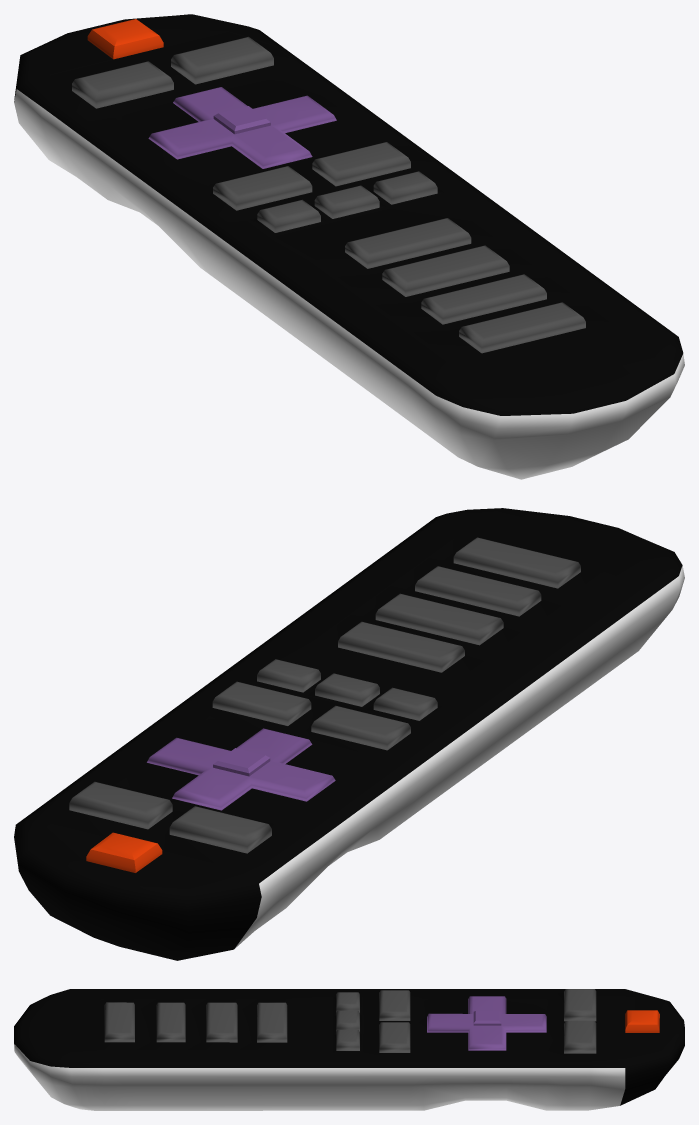
Rendered from TV_Remote.fbx.
The picture shows the model from 3 angles, top to bottom: view 1: azimuth 30°, elevation 25°; view 2: azimuth 150°, elevation 25°; view 3: azimuth 270°, elevation 25°; orthographic projection. The views are drawn at different scales.
Parts seen in each view (by area): view 1: pCube1; view 2: pCube1; view 3: pCube1.
Boxes of the visible parts, x1=… form: pCube1: x1=14, y1=14, x2=684, y2=479; pCube1: x1=14, y1=508, x2=684, y2=960; pCube1: x1=14, y1=989, x2=684, y2=1110.
Size of the model in its own units: 2.24 by 1.15 by 7.95.
